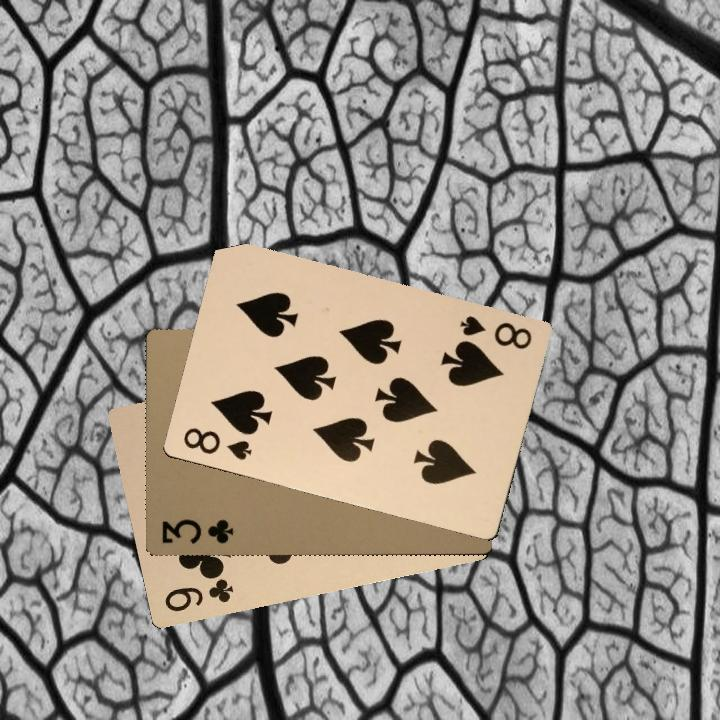3c: (157, 515, 235, 546)
8s: (455, 310, 535, 352), (179, 423, 254, 463)
9c: (160, 571, 236, 615)
